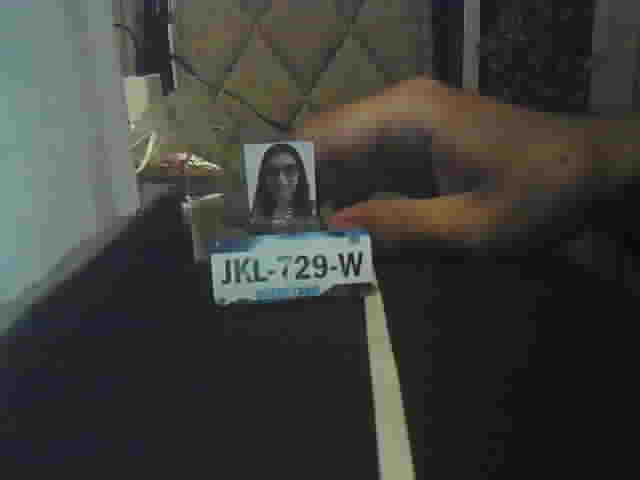PLACA: (205, 227, 375, 309)
ROSTRO: (250, 145, 315, 216)
